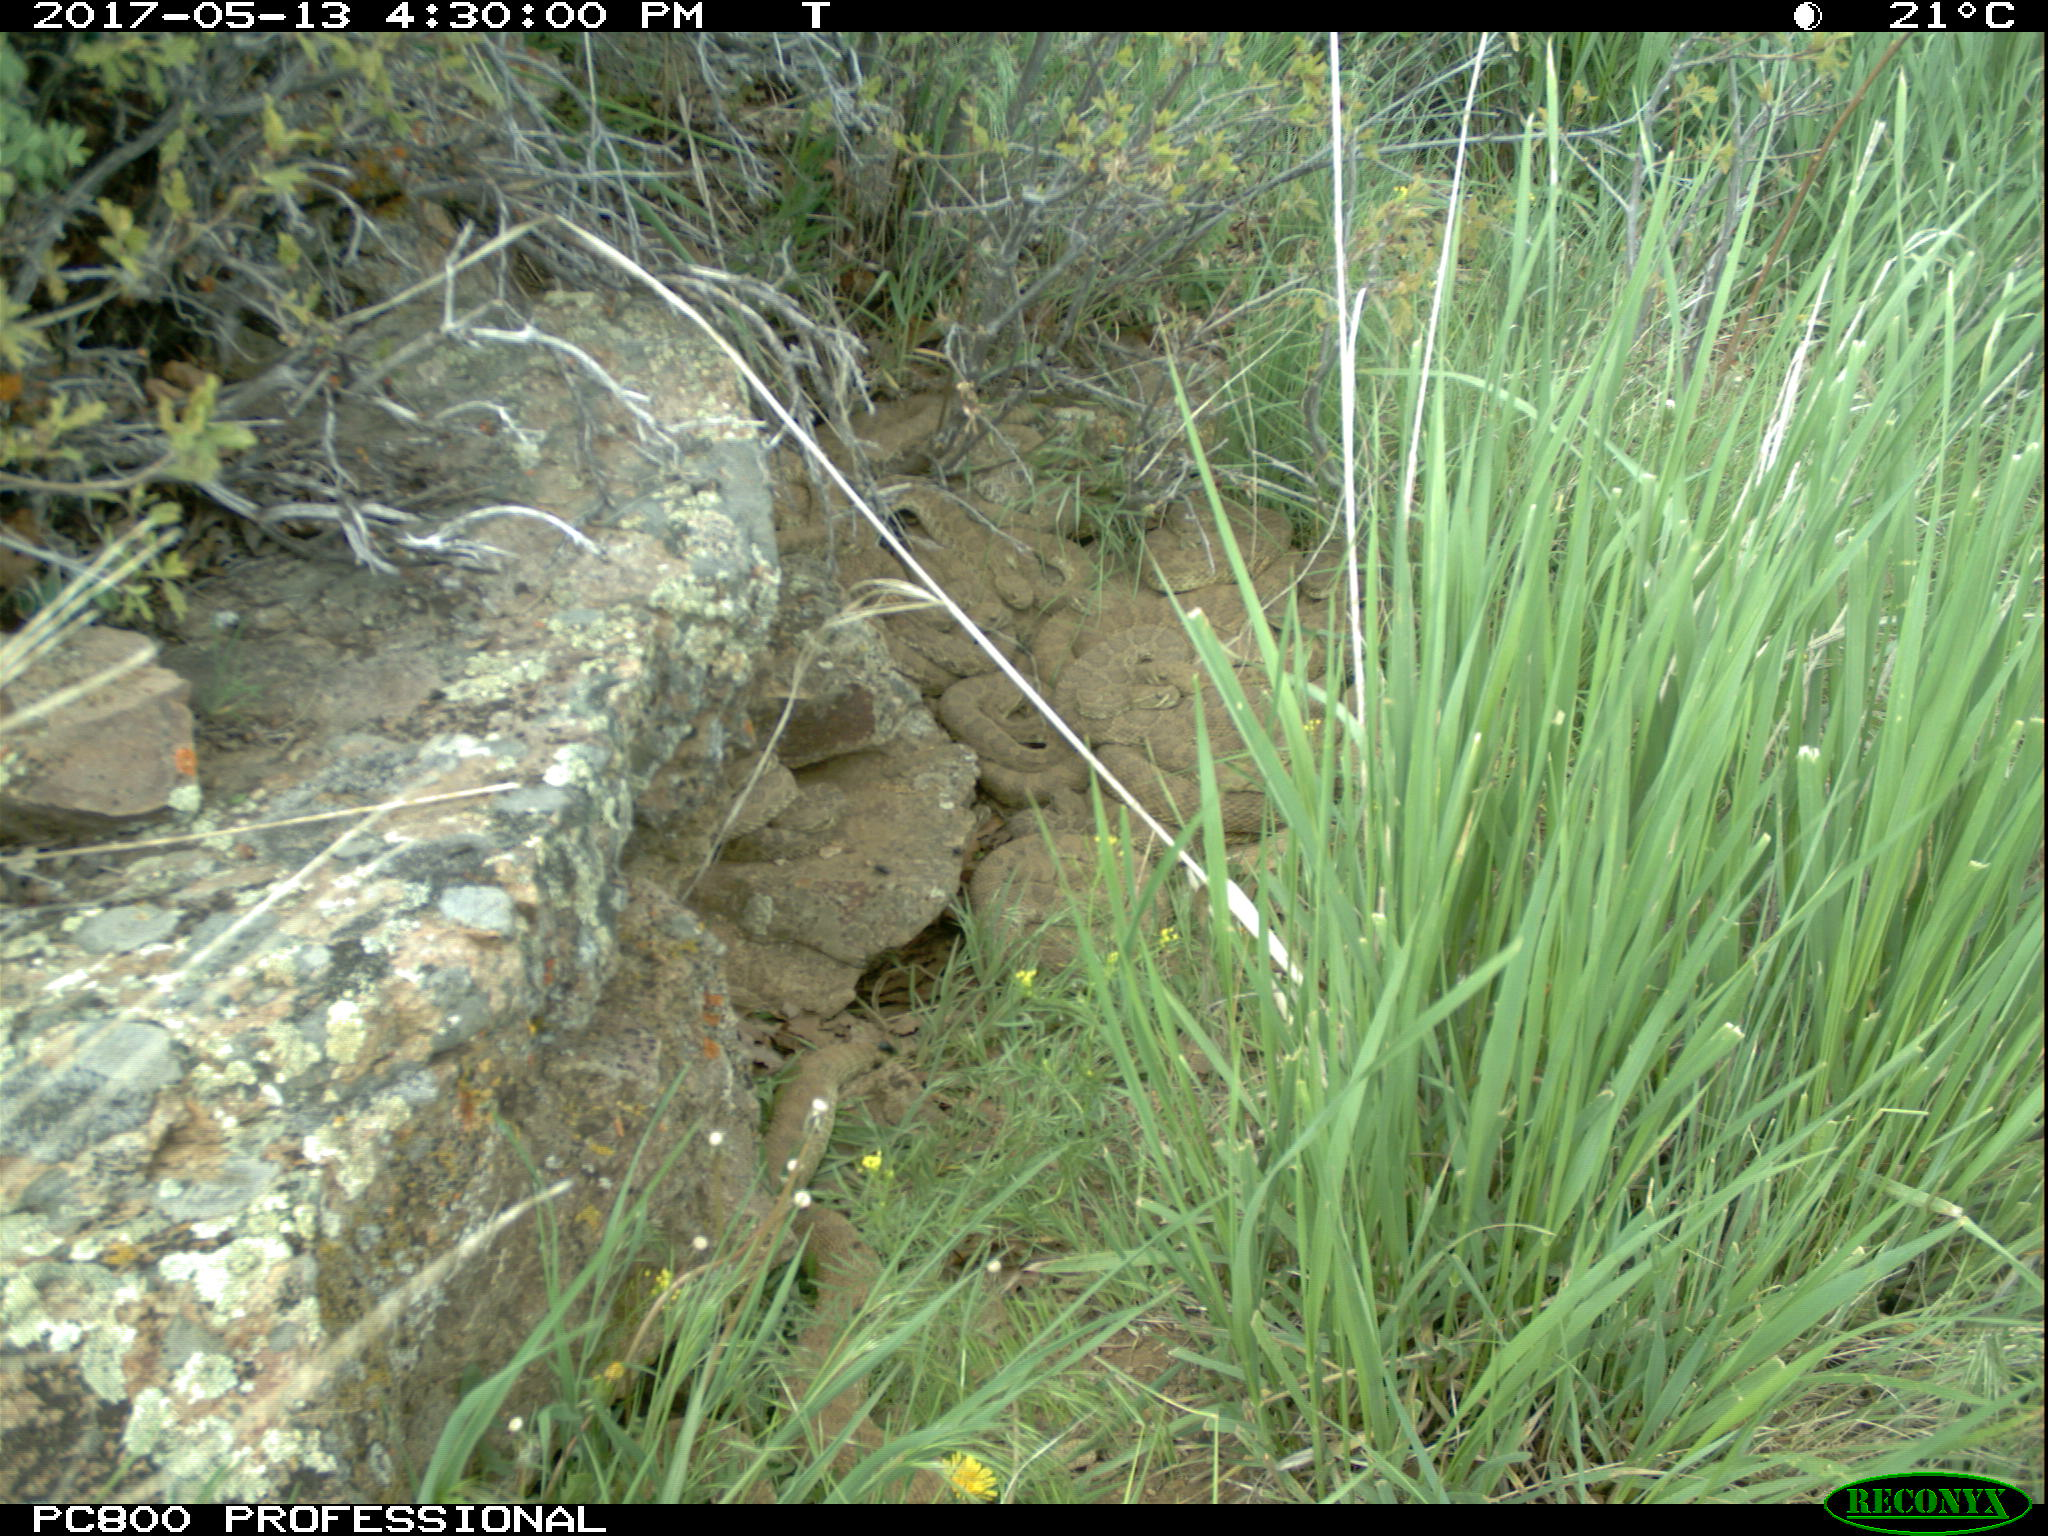snake: (776, 1226, 935, 1504), (968, 826, 1180, 970), (863, 473, 1047, 618), (764, 1018, 876, 1233), (1068, 611, 1222, 745), (1093, 745, 1288, 839), (690, 749, 845, 862), (943, 678, 1089, 794), (1143, 499, 1298, 600), (1266, 557, 1409, 658), (901, 616, 1055, 699)
